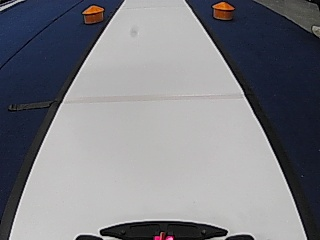granary: (80, 3, 104, 24), (210, 0, 235, 20)
